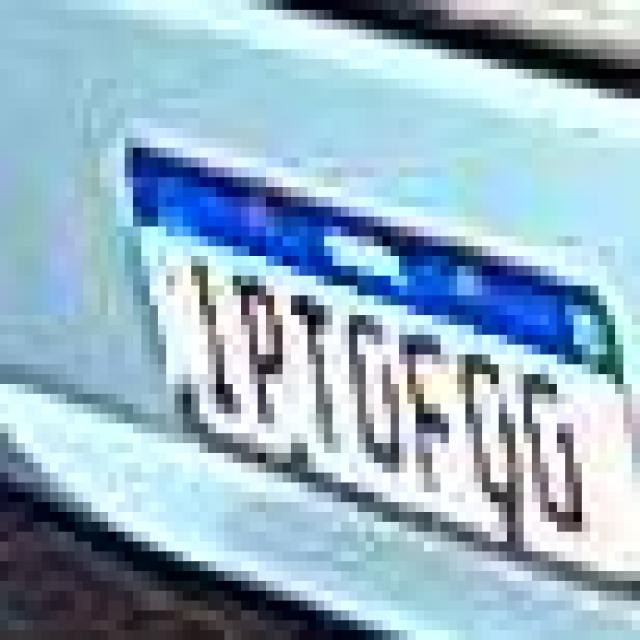0: (457, 345, 518, 525), (524, 365, 582, 541), (344, 306, 402, 479)
F: (404, 324, 457, 502)
I: (175, 239, 242, 436)
P: (243, 273, 288, 442)
T: (292, 289, 338, 457)
